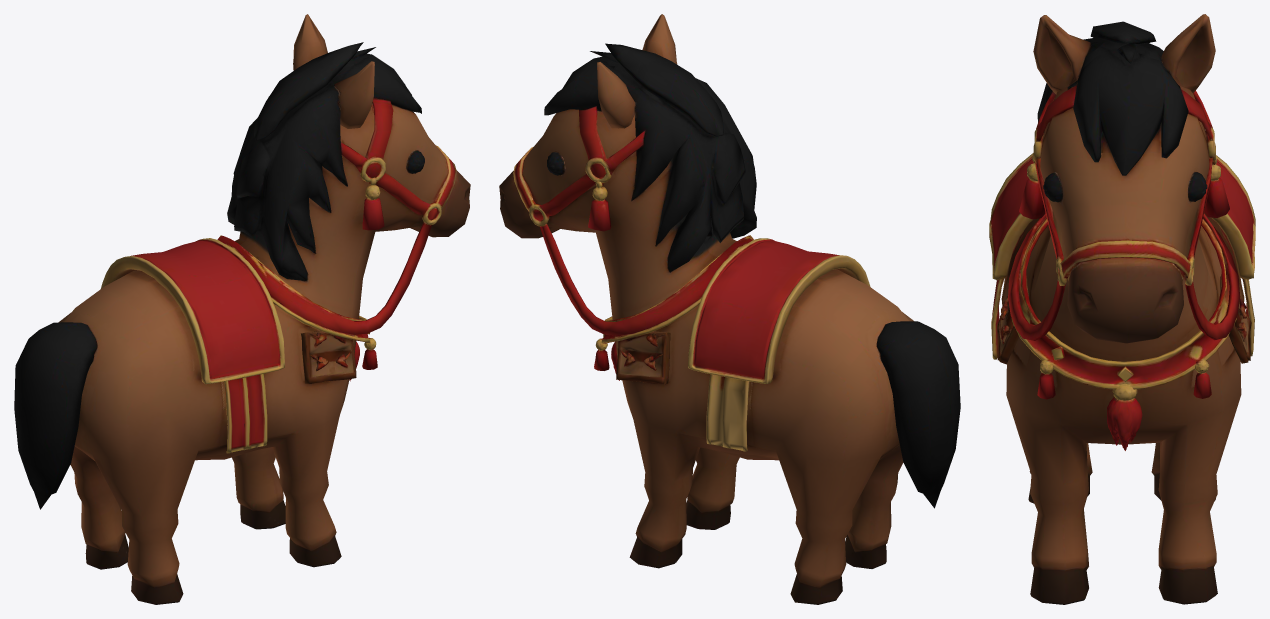
Rendered from 5d470558-59b5-49bf-a588-0f0bd514acda_model.glb.
The picture shows the model from 3 angles, left to right: view 1: azimuth 30°, elevation 25°; view 2: azimuth 150°, elevation 25°; view 3: azimuth 270°, elevation 25°; orthographic projection. The views are drawn at different scales.
Parts seen in each view (by area): view 1: tripo_node_5d470558-59b5-49bf-a588-0f0bd514acda; view 2: tripo_node_5d470558-59b5-49bf-a588-0f0bd514acda; view 3: tripo_node_5d470558-59b5-49bf-a588-0f0bd514acda.
Part boxes in pixels (<box>): tripo_node_5d470558-59b5-49bf-a588-0f0bd514acda: <box>14,14,470,604</box>; tripo_node_5d470558-59b5-49bf-a588-0f0bd514acda: <box>499,14,960,604</box>; tripo_node_5d470558-59b5-49bf-a588-0f0bd514acda: <box>989,14,1255,604</box>.
Bounding box in the file's own units: 0.7593 × 0.8 × 0.3181.
1 material, 1 textured.
